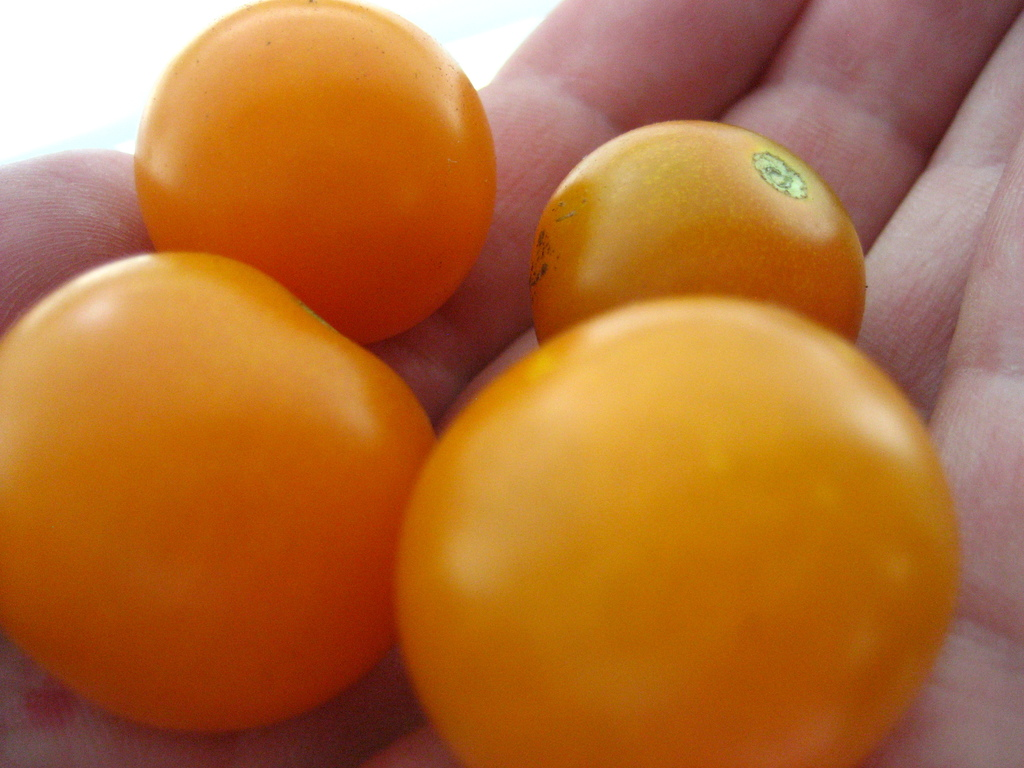Tomato: (394, 293, 961, 766), (0, 248, 443, 734), (135, 0, 497, 346), (528, 120, 865, 341)
